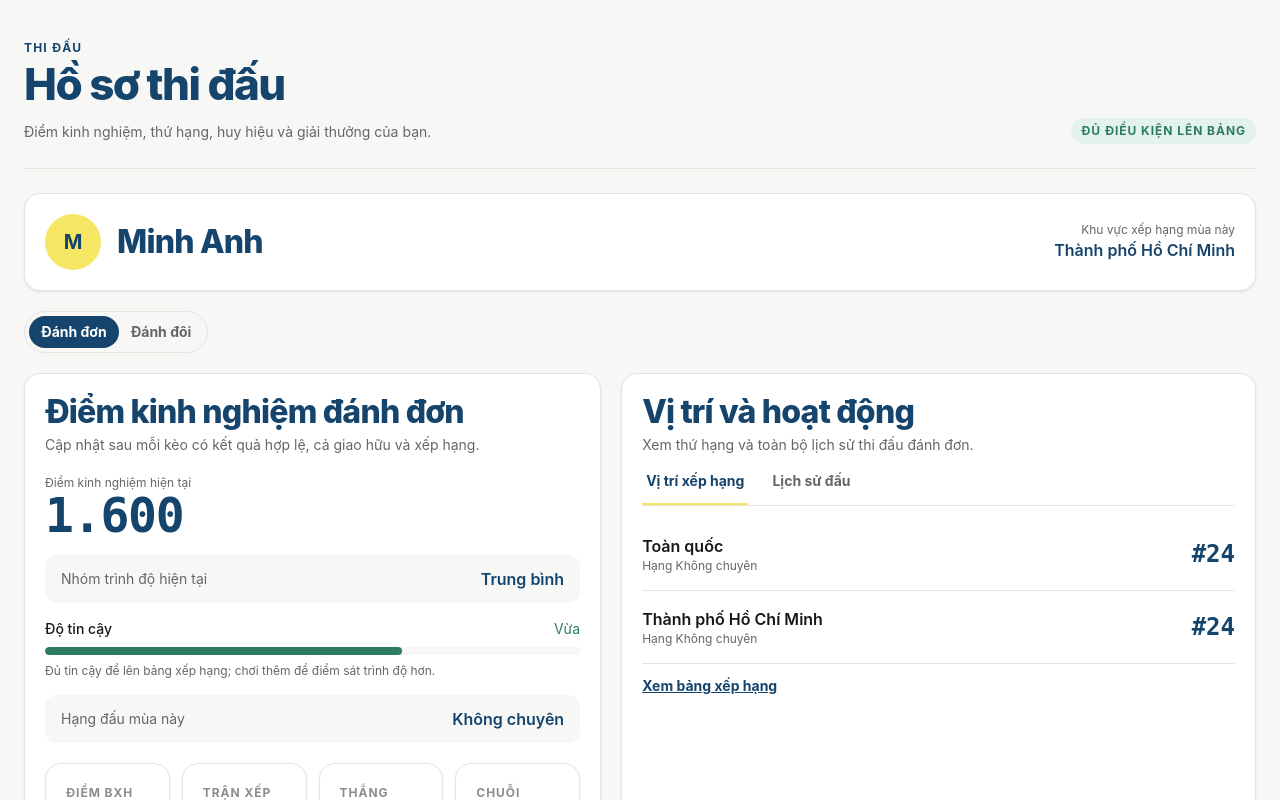
keeps the locked division after crossing 1.600 and labels unrated matches
Check: the text "1.600" is shown, box [45,487,184,543]
Click the tab "Lịch sử đấu" at (811, 488), box [768,471,854,505]
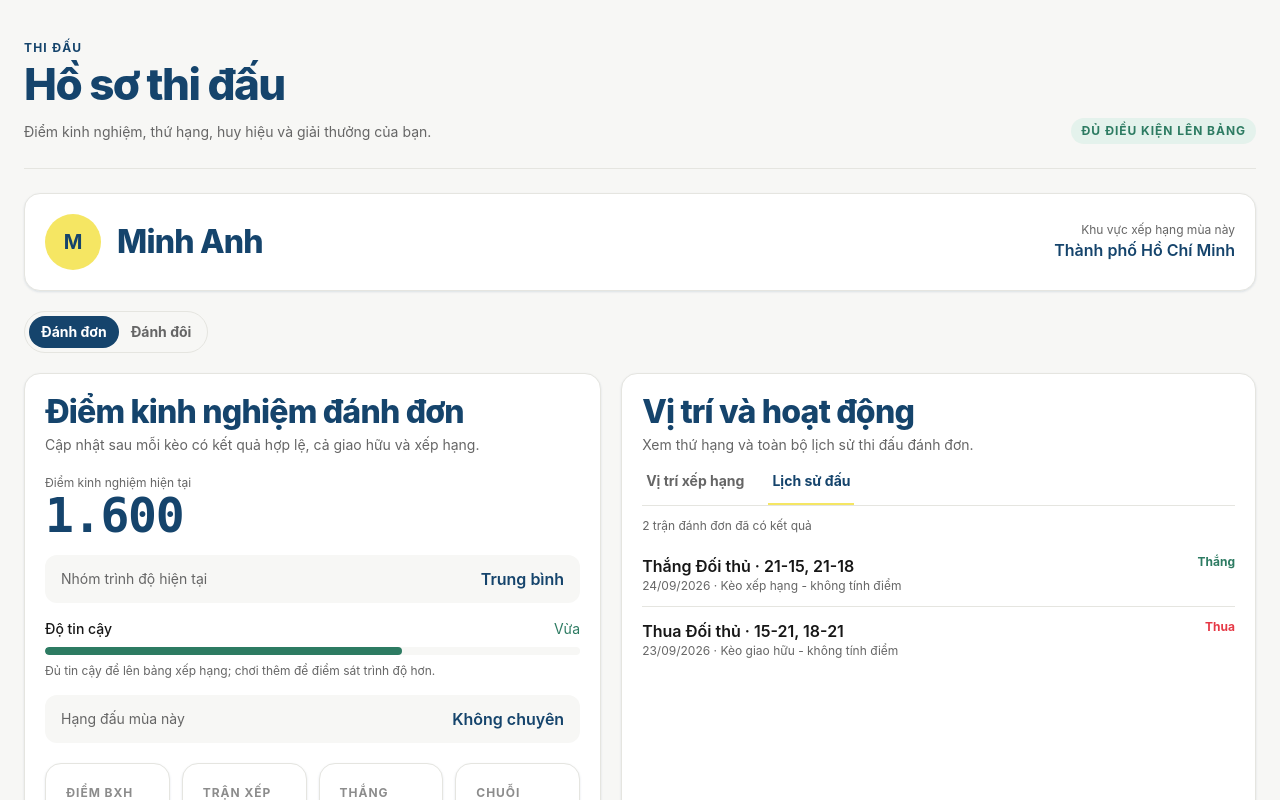
Check: the text "24/09/2026 · Kèo xếp hạng - không tính điểm" is shown, box [642,578,902,594]
Check: the text "23/09/2026 · Kèo giao hữu - không tính điểm" is shown, box [642,643,898,659]
